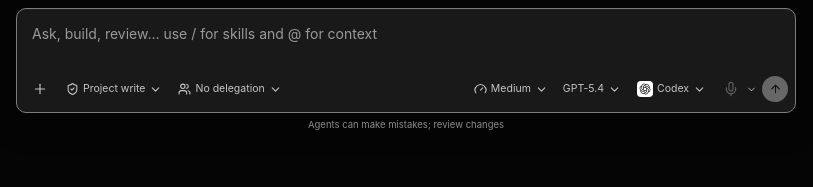
Test case: composer attachments › removes an attachment from its chip
Click the button named "Attach files or images from your computer" at (40, 89), box [24,73,56,105]
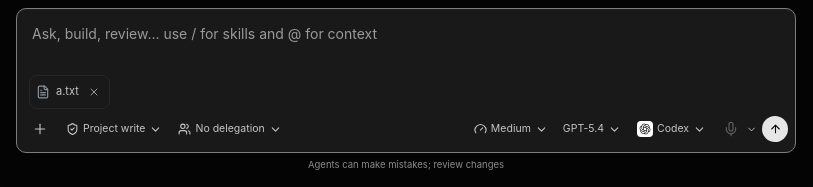
Expected: the text "a.txt" is shown, [56,84,79,100]
Click the button named "Remove a.txt" at (94, 92), box [85,83,103,101]
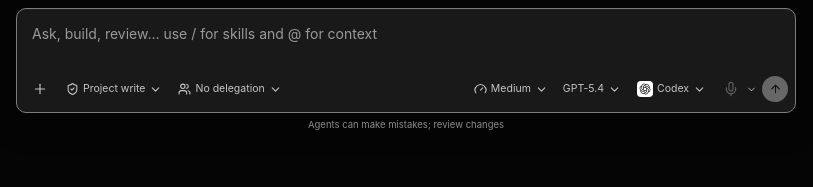
Expected: the text "a.txt" is gone
